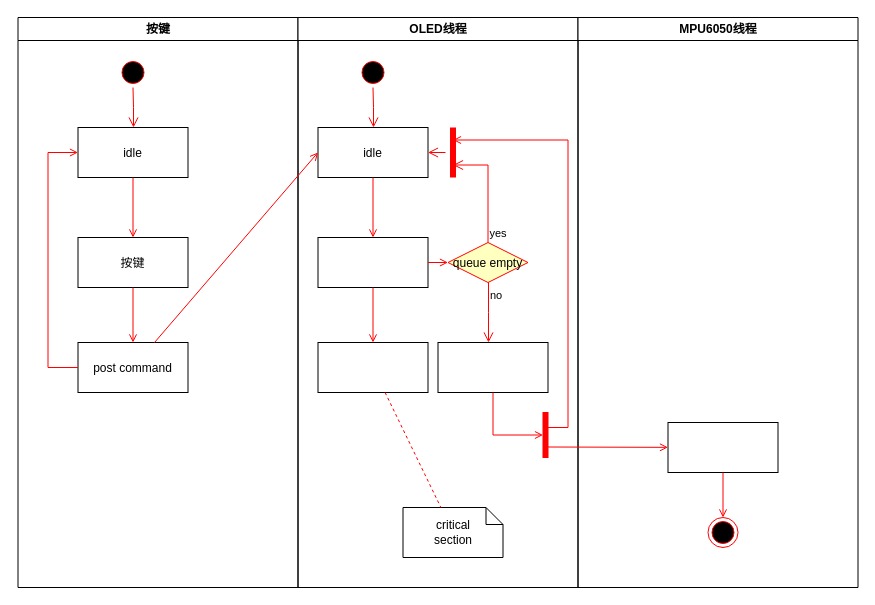
This 875x605 diagram has some shape labels left out. Each missing label, with the centre of its shape:
"check for new commands" goes at (x=372, y=262).
"command queue" goes at (x=372, y=367).
"dispatch command worker thread" goes at (x=492, y=367).
"process command" goes at (x=722, y=447).
